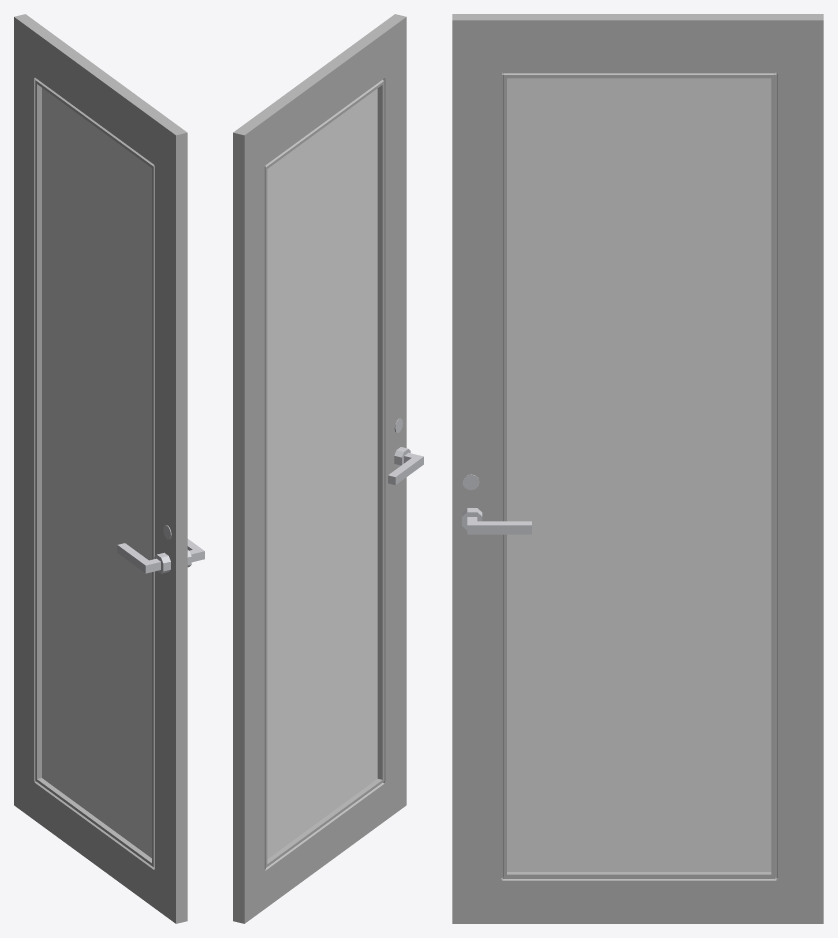
Rendered from CubeHouse_1_door_4.fbx.
3 renders of one model, left to right at view 1: azimuth 30°, elevation 25°; view 2: azimuth 150°, elevation 25°; view 3: azimuth 270°, elevation 25°, orthographic. The views are drawn at different scales.
Parts seen in each view (by area): view 1: GDLM1210_GDLM911_mLayer15_135.002; view 2: GDLM1210_GDLM911_mLayer15_135.002; view 3: GDLM1210_GDLM911_mLayer15_135.002.
Boxes of the visible parts, x1=… form: GDLM1210_GDLM911_mLayer15_135.002: x1=14, y1=14, x2=204, y2=923; GDLM1210_GDLM911_mLayer15_135.002: x1=233, y1=14, x2=423, y2=923; GDLM1210_GDLM911_mLayer15_135.002: x1=452, y1=14, x2=823, y2=923.
Size of the model in its own units: 0.154 by 1.96 by 0.73.
Materials: 3 (2 with a texture image).
